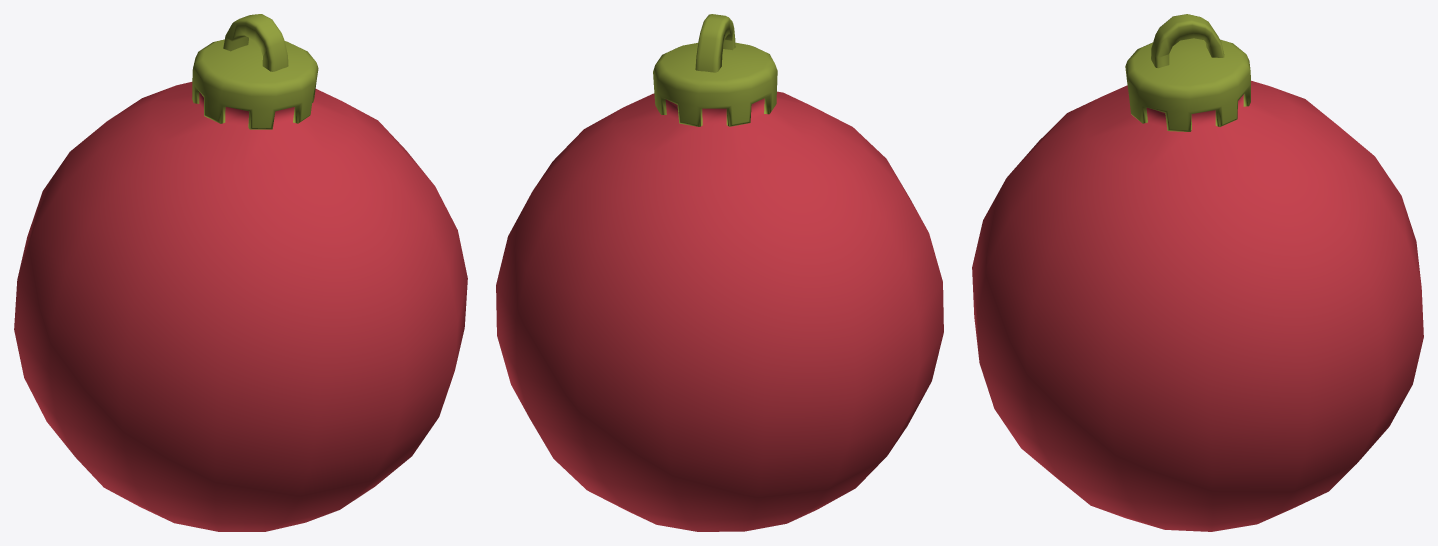
The model's file is yuleball.fbx.
The picture shows the model from 3 angles, left to right: view 1: azimuth 30°, elevation 25°; view 2: azimuth 150°, elevation 25°; view 3: azimuth 270°, elevation 25°; orthographic projection. The views are drawn at different scales.
Visible parts, largest first — view 1: backgroundyoule2; view 2: backgroundyoule2; view 3: backgroundyoule2.
Part boxes in pixels (<box>): backgroundyoule2: <box>14,14,467,531</box>; backgroundyoule2: <box>496,14,943,531</box>; backgroundyoule2: <box>972,14,1423,531</box>.
Size of the model in its own units: 4.1 by 4.92 by 4.05.
